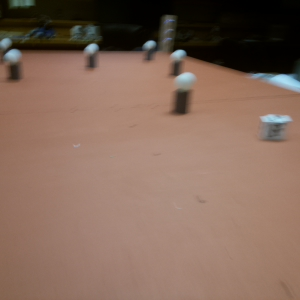obstacle: (174, 72, 196, 115), (7, 48, 21, 81), (170, 48, 186, 76), (84, 44, 101, 68), (144, 37, 158, 62), (2, 38, 11, 57)
